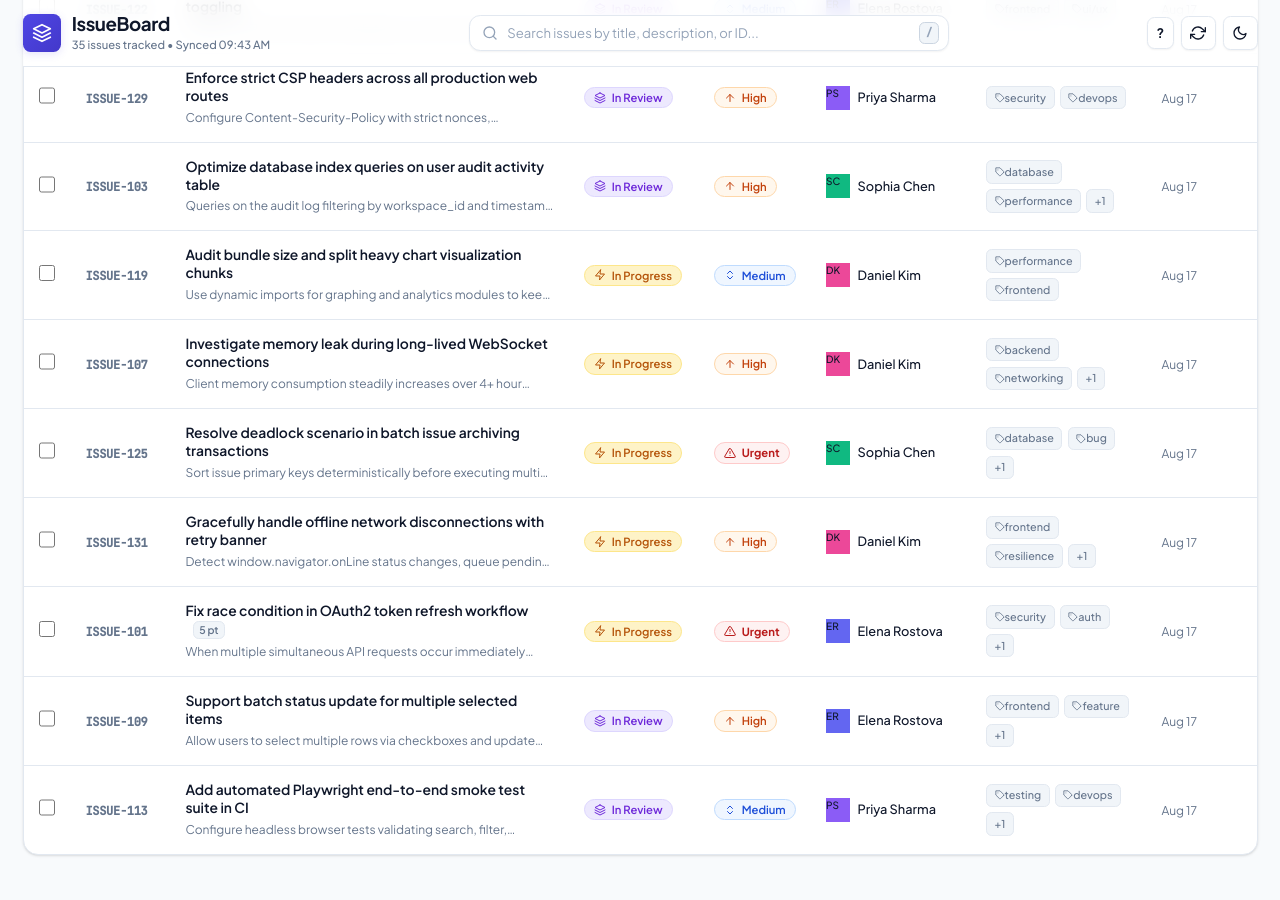
Scenario: IssueDetailModal Component and Interactions › closes modal when clicking close button
(page scrolled)
Click the text "Fix race condition in OAuth2 token refresh workflow": (357, 610) [185,602,528,619]
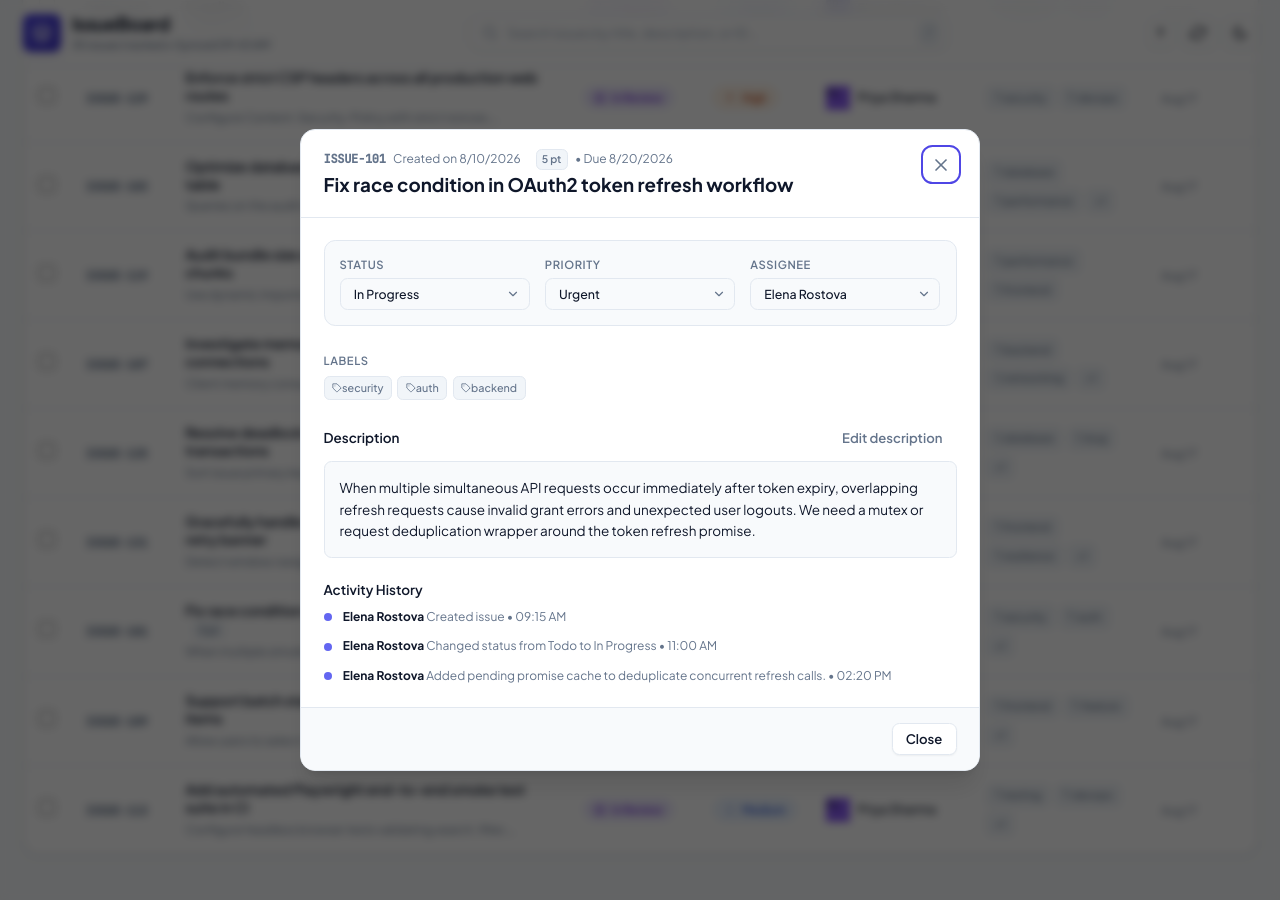
Click the button named "Close details dialog": (941, 165) [925,149,957,180]
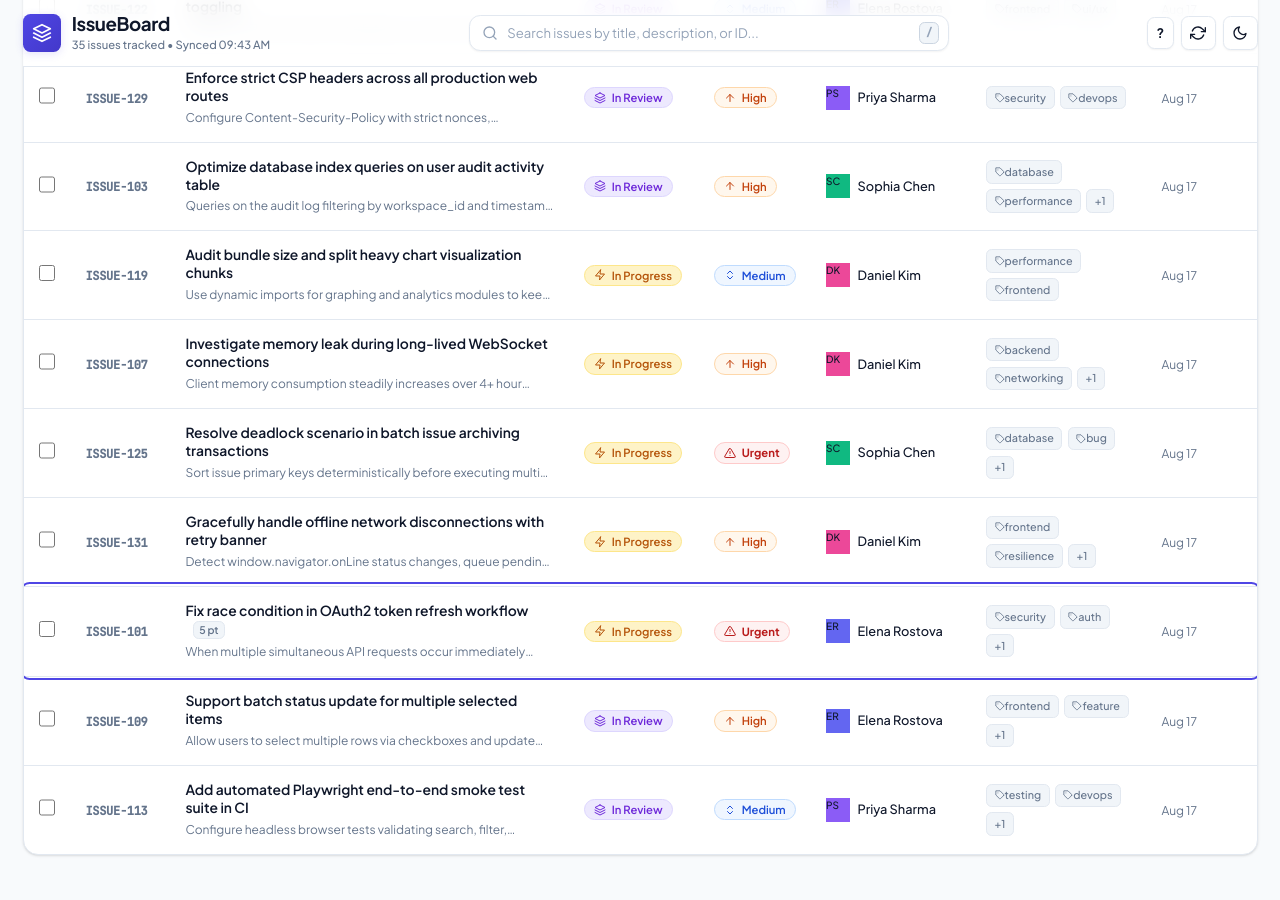
expect the dialog is gone: met
